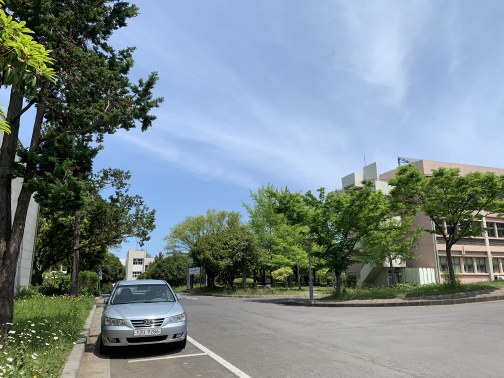College Of Education: (328, 160, 502, 298)
